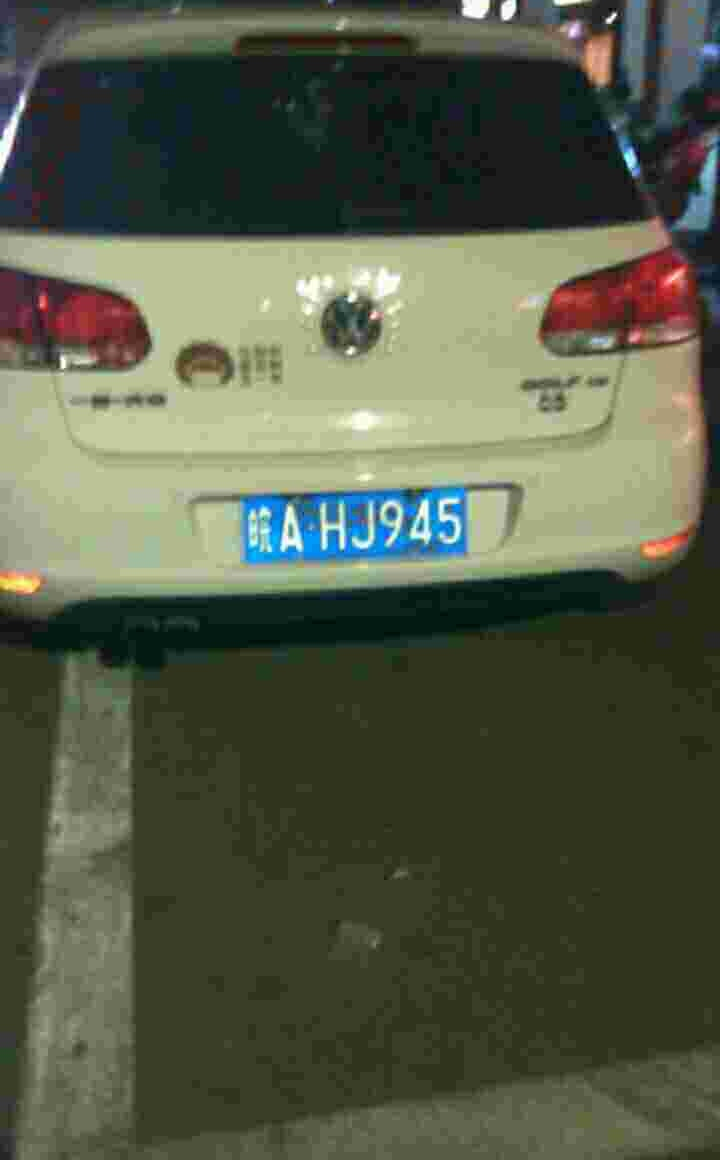plate: (244, 481, 475, 568)
